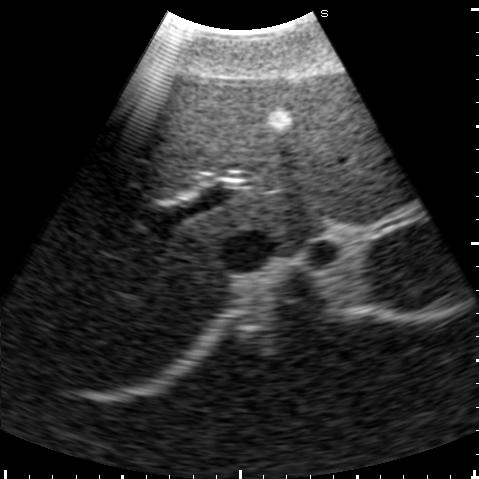IVC: (218, 232, 276, 273)
S1: (233, 194, 314, 255)
S2: (299, 170, 417, 227)
S3: (238, 71, 397, 195)
S4: (128, 74, 287, 193)
Tumor: (268, 107, 293, 129)
